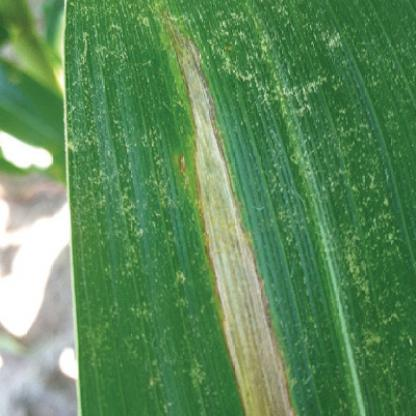corn leaf blight: (56, 1, 415, 401)
